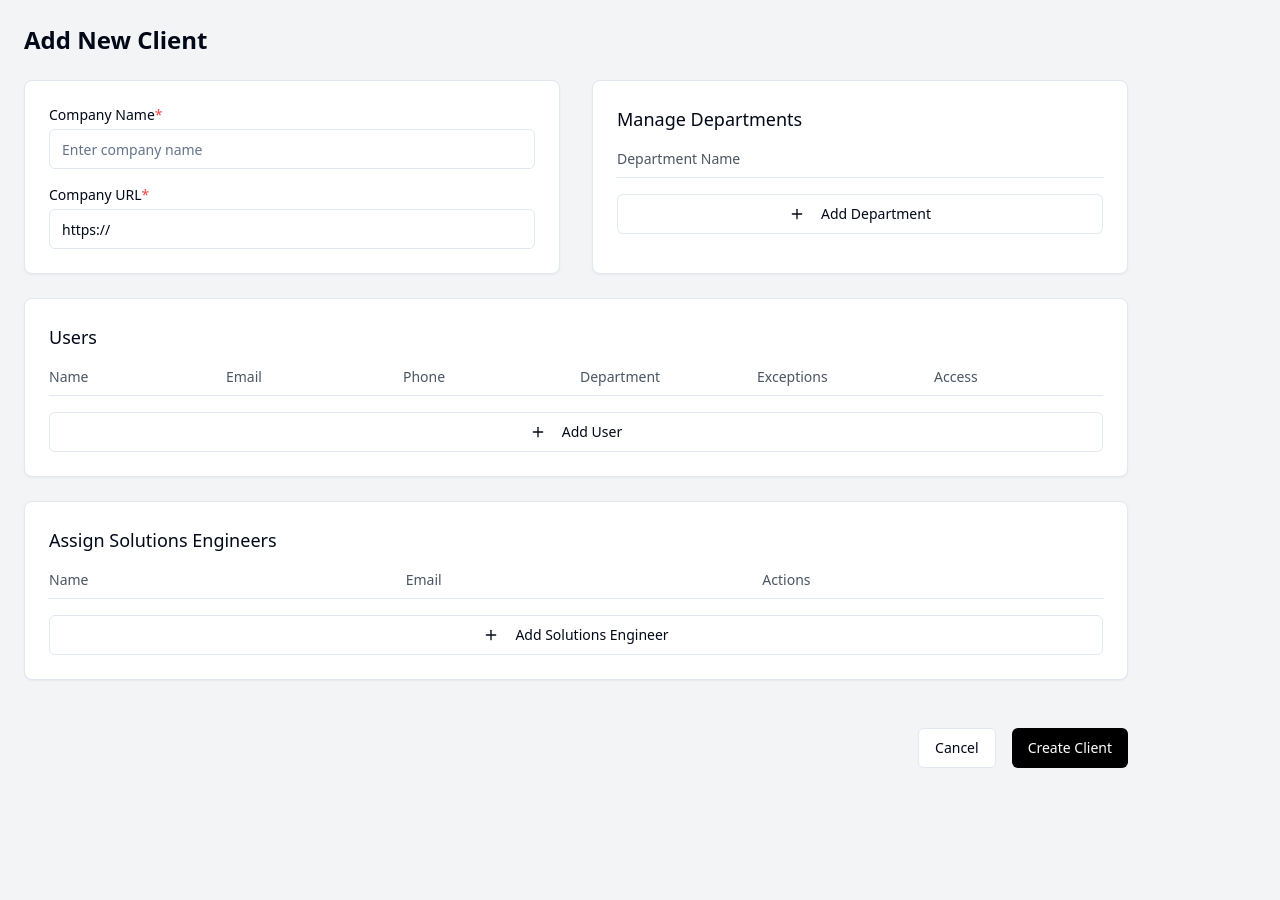
Test: ClientManagement › allows adding solutions engineers
Click the button "Add Solutions Engineer" at (576, 635), box [49,615,1103,655]
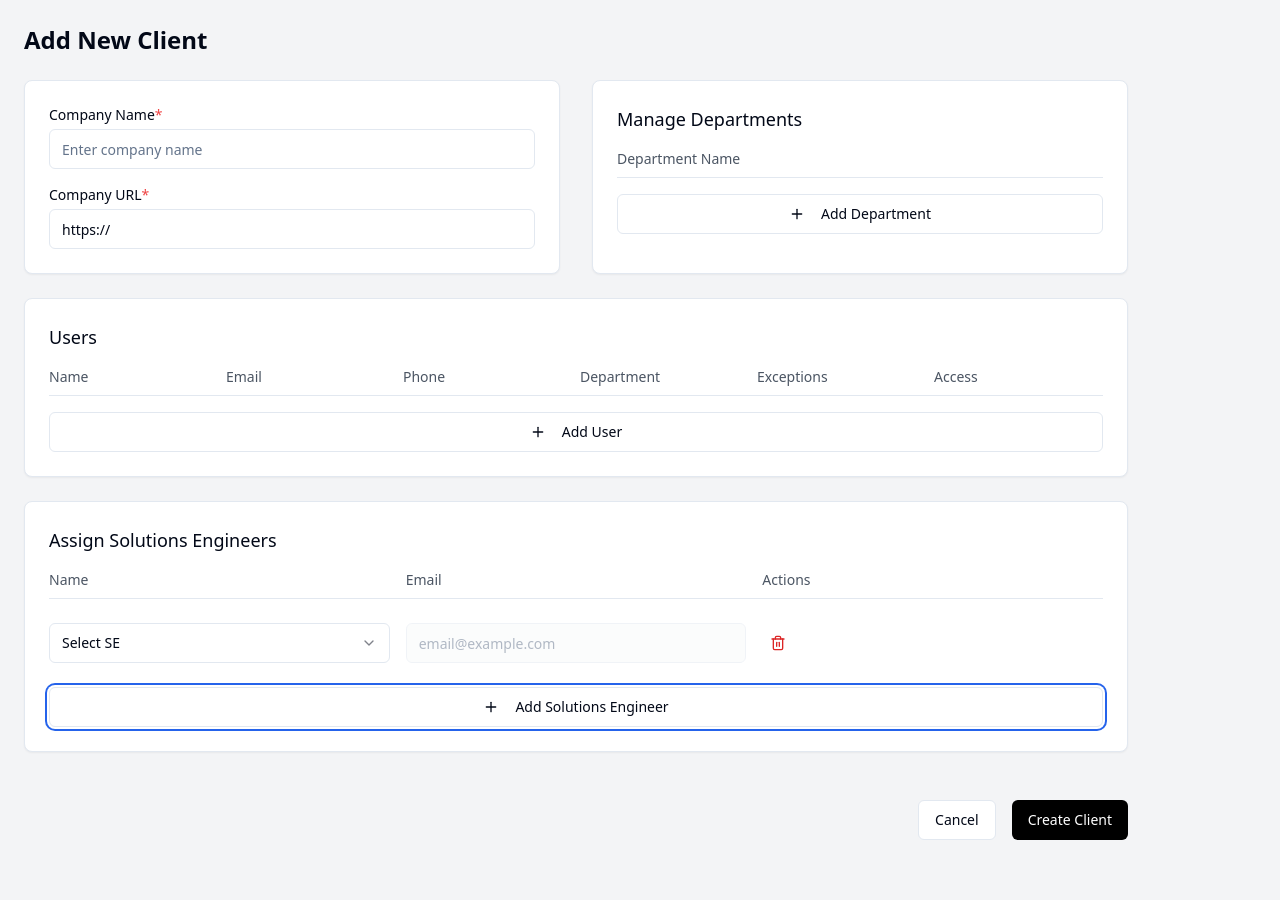
Result: the text "Select SE" is shown at [62,633,120,653]
